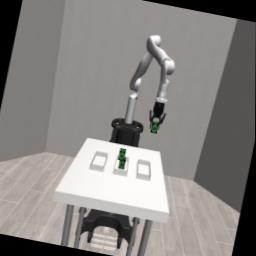cube1: (118, 148, 127, 162)
cube2: (118, 157, 127, 170)
cube3: (150, 121, 159, 135)
